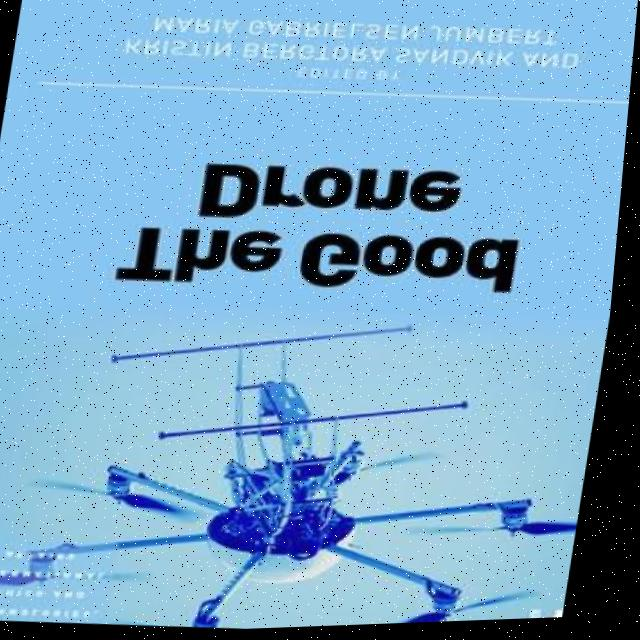drones: (0, 342, 610, 639)
